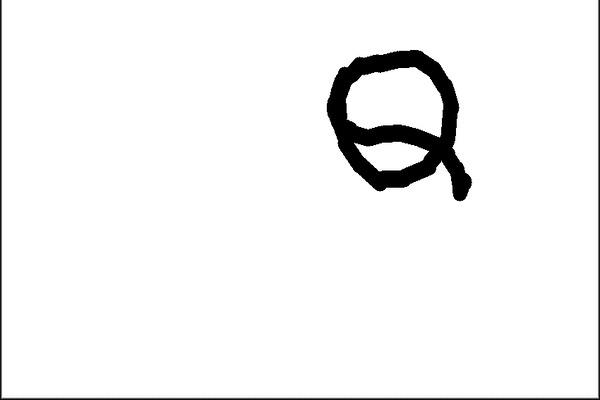Q: (320, 43, 473, 205)
